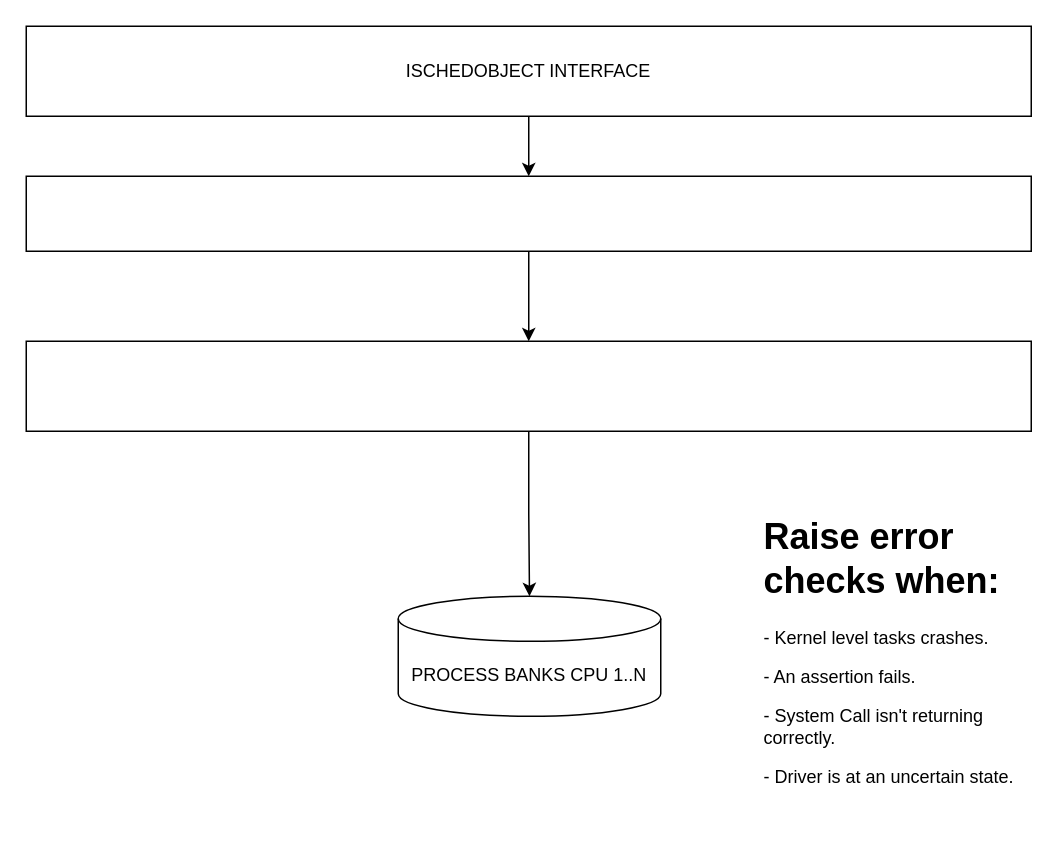
Some shapes in this 1058 by 852 pixel diagram are drawn without their labels. The shapes that lost their labels are listed below. From the top down, each one's box as (x1, y1, x2, y2) in pixels, then its label:
(25, 175, 1031, 251): USER SCHEDULER/THREAD SCHEDULER/HW THREAD SCHEDULER
(25, 340, 1031, 431): ANOTHER SCHEDULER OR DIRECT CALL TO DRIVER/HAL.
